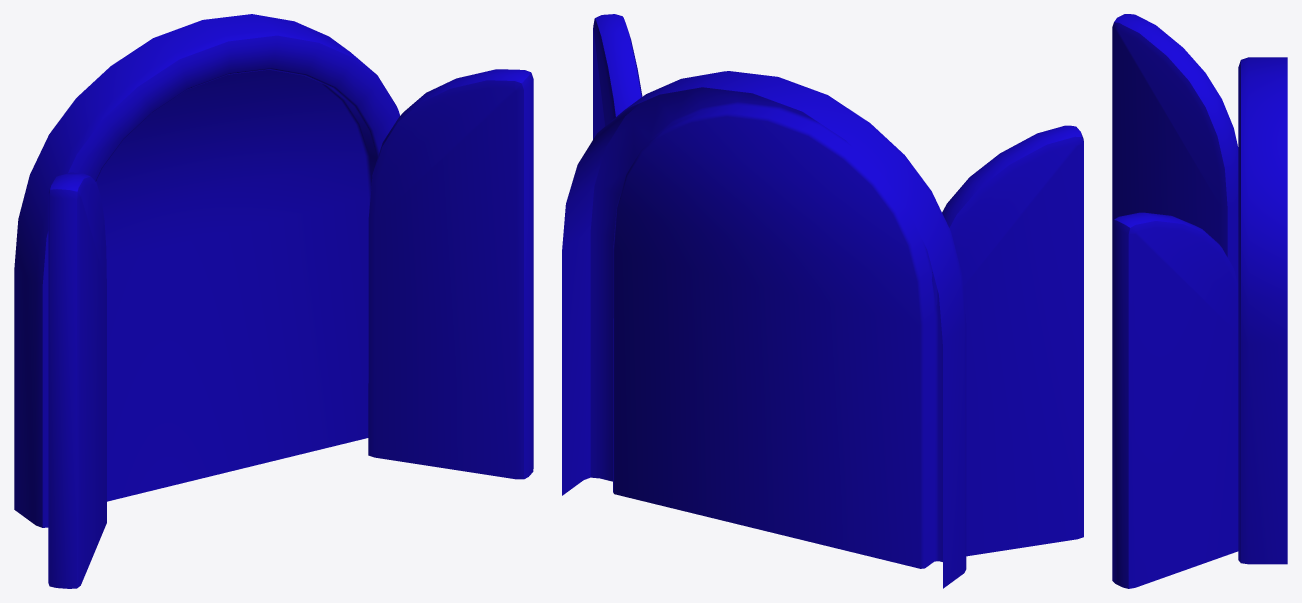
Rendered from SM_Door_Big.fbx.
3 renders of one model, left to right at view 1: azimuth 30°, elevation 25°; view 2: azimuth 150°, elevation 25°; view 3: azimuth 270°, elevation 25°, orthographic. The views are drawn at different scales.
Parts seen in each view (by area): view 1: SM_Door_Big; view 2: SM_Door_Big; view 3: SM_Door_Big.
Boxes of the visible parts, left/top/right/bottom form: SM_Door_Big: left=14, top=14, right=533, bottom=588; SM_Door_Big: left=562, top=14, right=1083, bottom=588; SM_Door_Big: left=1112, top=14, right=1287, bottom=588.
Bounding box in the file's own units: 514 × 451 × 177.
